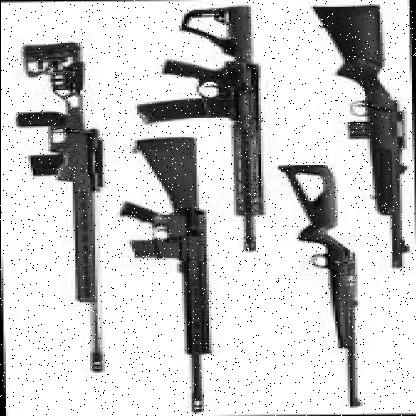rifle: (10, 42, 112, 378), (118, 134, 220, 414), (341, 3, 412, 268)
